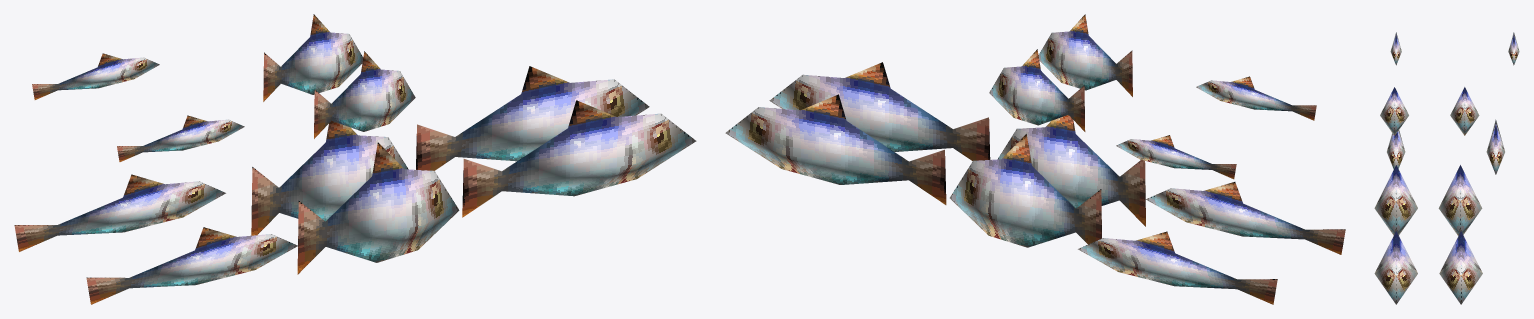
File: fish01.obj
The picture shows the model from 3 angles, left to right: view 1: azimuth 30°, elevation 25°; view 2: azimuth 150°, elevation 25°; view 3: azimuth 270°, elevation 25°; orthographic projection. The views are drawn at different scales.
Parts seen in each view (by area): view 1: fish01; view 2: fish01; view 3: fish01.
Boxes of the visible parts, left/top/right/bottom form: fish01: left=14, top=14, right=696, bottom=304; fish01: left=725, top=14, right=1345, bottom=304; fish01: left=1374, top=32, right=1519, bottom=304.
Size of the model in its own units: 1.59 by 0.5397 by 0.4734.
Materials: 1 (1 with a texture image).
